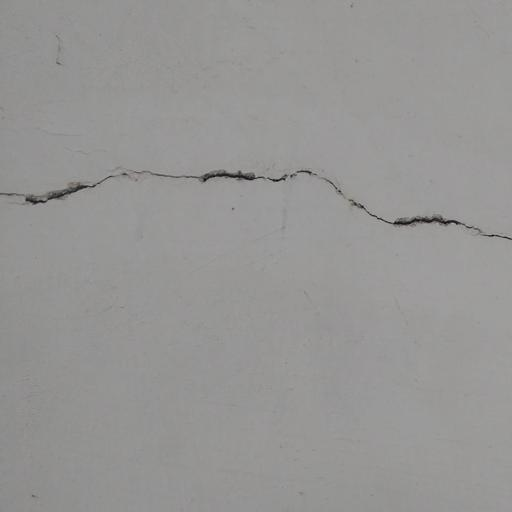major_crack: (0, 156, 512, 248)
